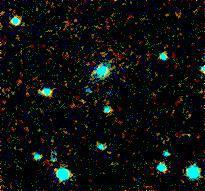star: (71, 86, 101, 116)
